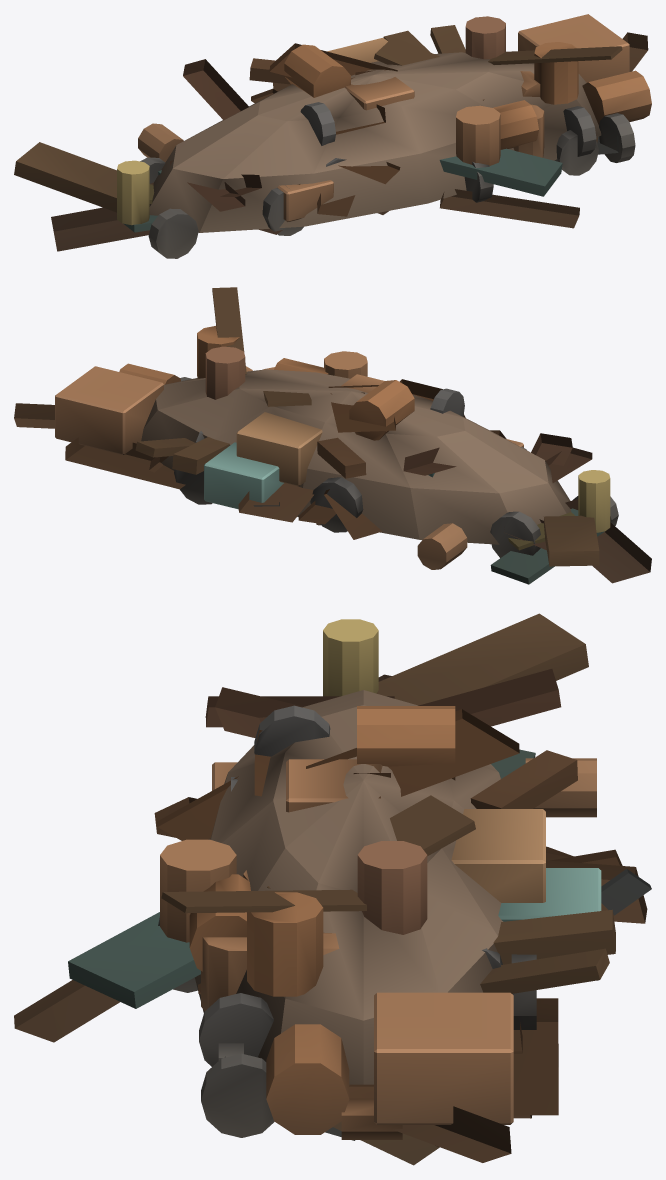
File: junk_c.glb
3 views of the same model, one above another, from view 1: azimuth 30°, elevation 25°; view 2: azimuth 150°, elevation 25°; view 3: azimuth 270°, elevation 25° (orthographic). The views are drawn at different scales.
Parts seen in each view (by area): view 1: junk_c; view 2: junk_c; view 3: junk_c.
Boxes of the visible parts, x1,y1,x2,y2 form: junk_c: (14,14,651,258); junk_c: (14,287,651,584); junk_c: (14,613,651,1165).
Bounding box in the file's own units: 12.04 × 2.51 × 6.35.
